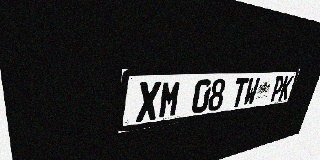0: (191, 79, 213, 114)
8: (207, 78, 228, 112)
K: (278, 76, 294, 101)
M: (158, 80, 182, 119)
P: (269, 76, 285, 102)
T: (230, 78, 249, 108)
W: (242, 77, 261, 106)
X: (136, 81, 161, 122)
